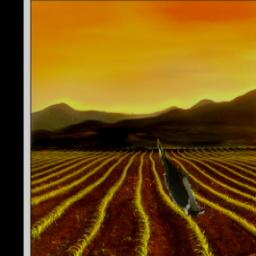Cuckoo: (157, 140, 205, 218)
